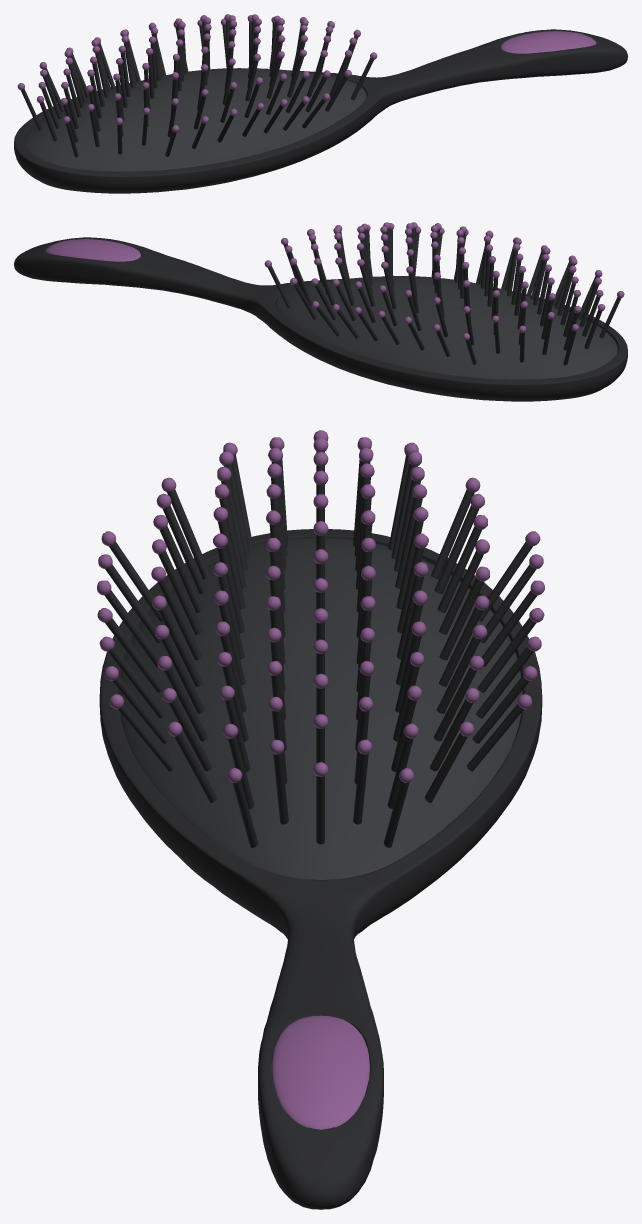
File: comb.glb
3 views of the same model, one above another, from view 1: azimuth 30°, elevation 25°; view 2: azimuth 150°, elevation 25°; view 3: azimuth 270°, elevation 25° (orthographic). The views are drawn at different scales.
Parts seen in each view (by area): view 1: comb_01; view 2: comb_01; view 3: comb_01.
Boxes of the visible parts, x1=… form: comb_01: x1=14, y1=14, x2=627, y2=193; comb_01: x1=14, y1=222, x2=627, y2=401; comb_01: x1=97, y1=430, x2=544, y2=1209.
Size of the model in its own units: 23.64 by 4.87 by 7.62.
Materials: 1 (1 with a texture image).
